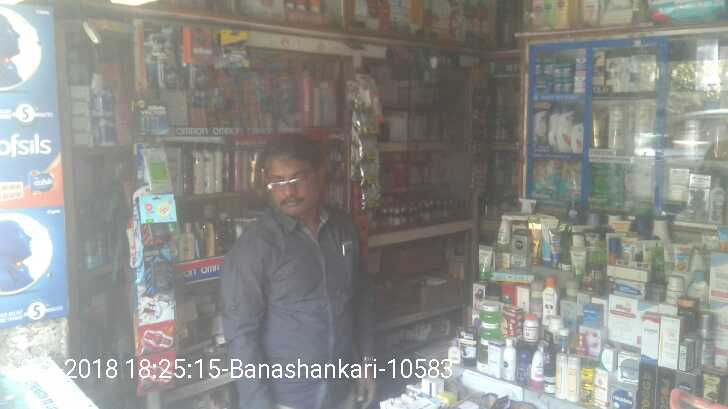beauty: (607, 106, 624, 152), (530, 104, 545, 147), (557, 105, 570, 150), (571, 117, 582, 150)
pharmacy: (585, 157, 621, 201), (525, 157, 553, 200), (556, 160, 578, 198), (577, 56, 585, 92), (560, 79, 573, 95), (550, 78, 563, 93), (552, 64, 561, 81), (561, 65, 571, 78)
